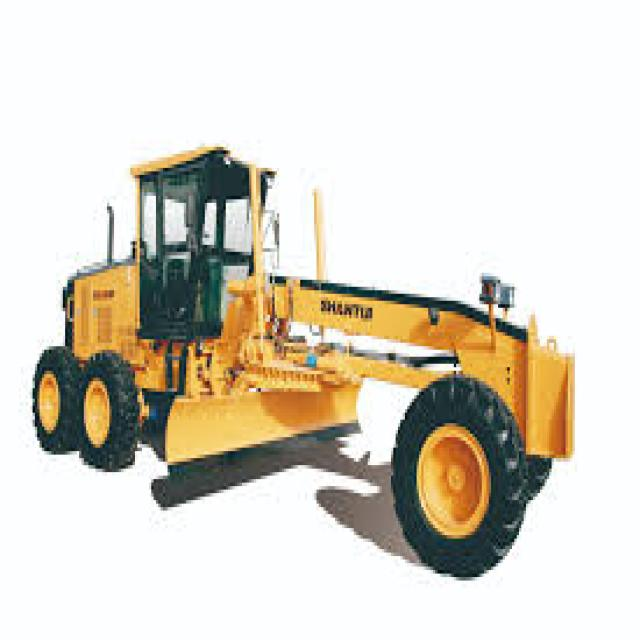buldozerpayloadergrader: (14, 101, 586, 577)
